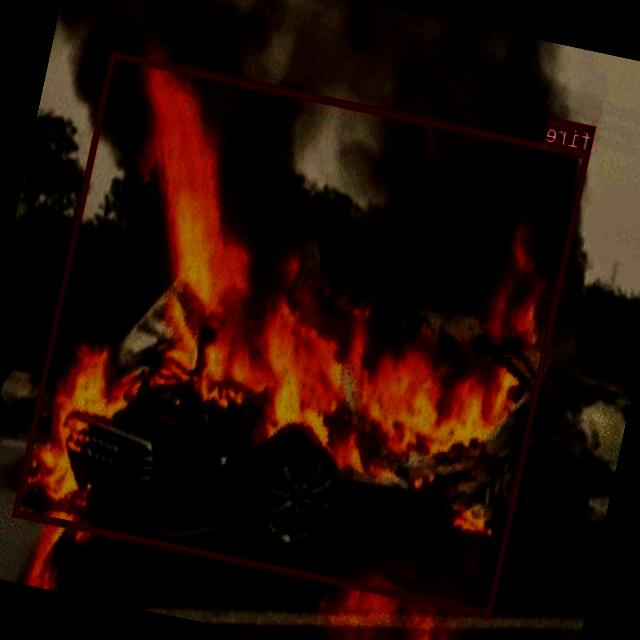fire: (13, 51, 590, 616)
